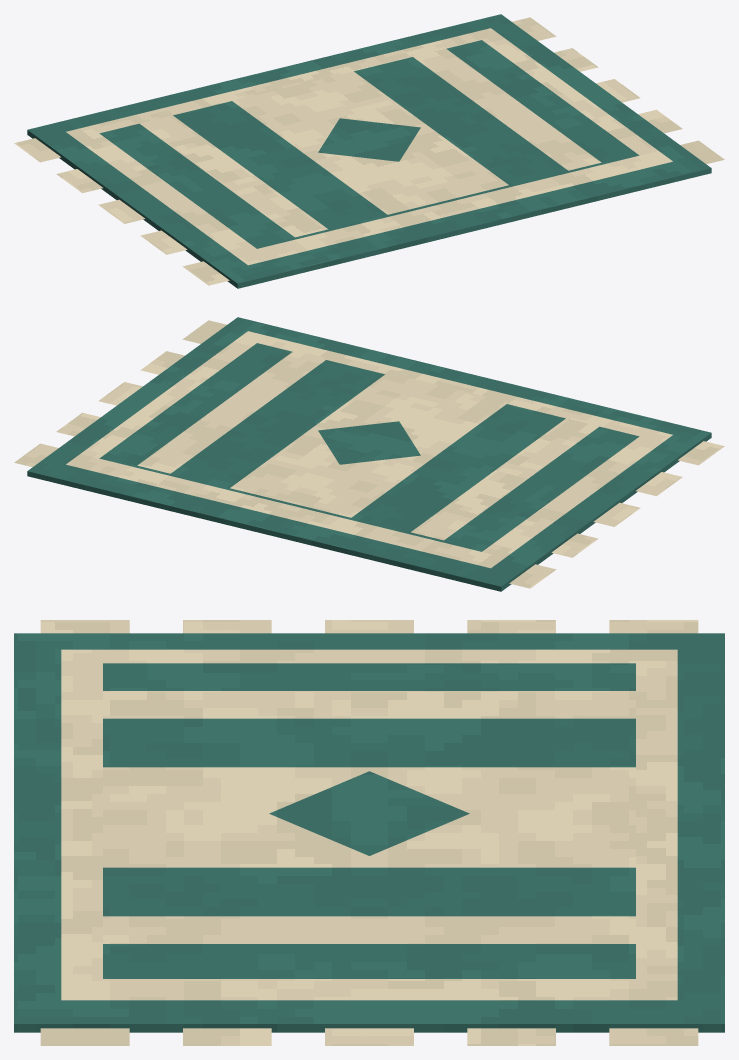
File: int_rug.glb
3 views of the same model, one above another, from view 1: azimuth 30°, elevation 25°; view 2: azimuth 150°, elevation 25°; view 3: azimuth 270°, elevation 25° (orthographic). The views are drawn at different scales.
Parts seen in each view (by area): view 1: int_rug; view 2: int_rug; view 3: int_rug.
Part boxes in pixels (x1,y1,x2,y2): int_rug: (14,14,724,288); int_rug: (14,317,724,591); int_rug: (14,620,724,1045).
Bounding box in the file's own units: 1.7 × 0.044 × 1.2.
Materials: 2 (2 with a texture image).
